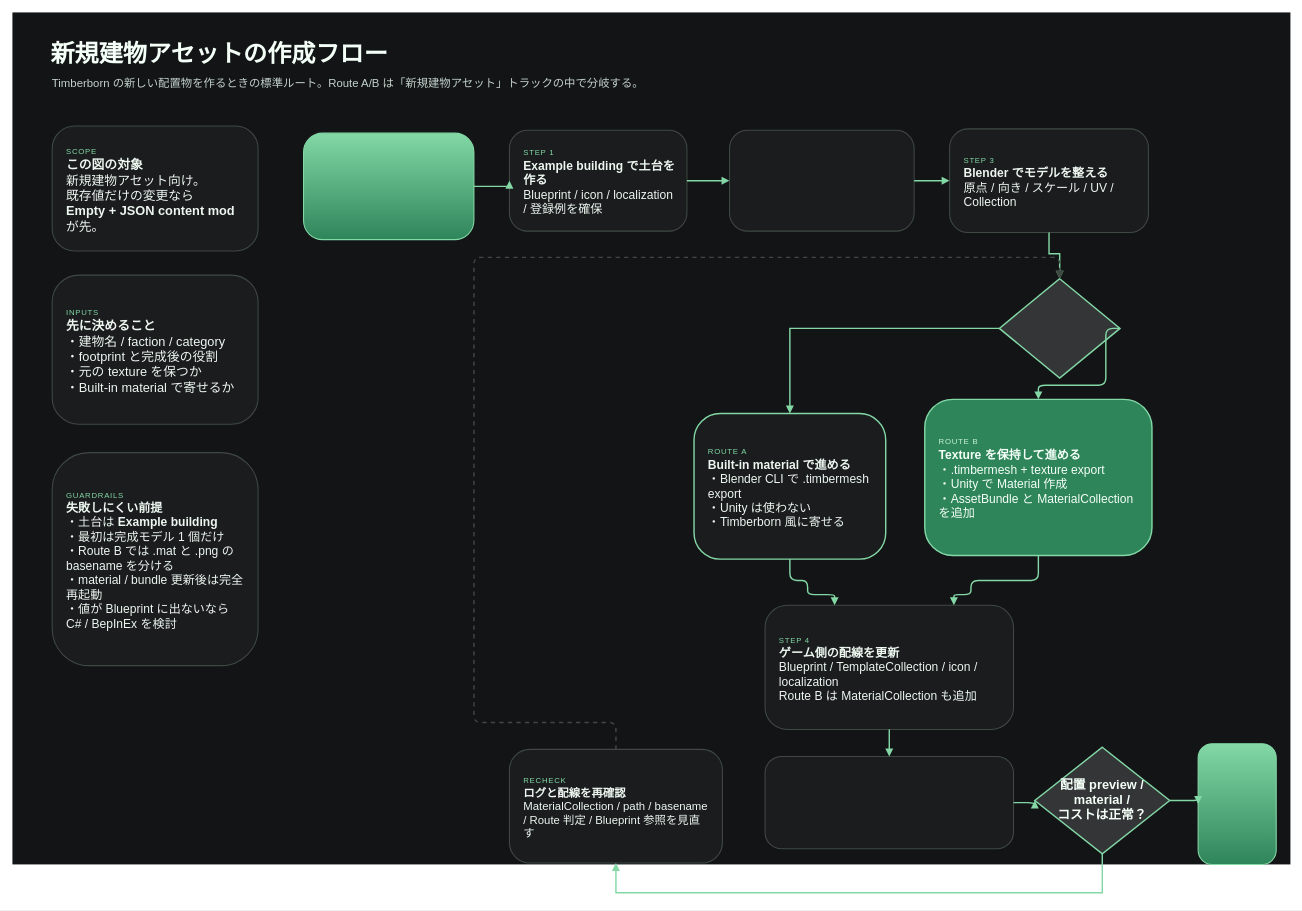
This 1302x911 diagram has some shape labels left out. The centre of each missing label's shape, as x and y in pixels:
"DONE 配置成功 見た目と挙動をゲーム内確認" belongs at (1236,804).
"START 新規建物アセットを作りたい 配置可能な建物として追加する" belongs at (388,186).
"STEP 2 名前と仕様を固定する 建物 ID / faction / footprint / ToolGroup / cost" belongs at (821,180).
"STEP 5 built mod を配置 / build する Route B は bundle 出力を同梱" belongs at (889,802).
"元の texture を 保ちたい？" belongs at (1059,328).
